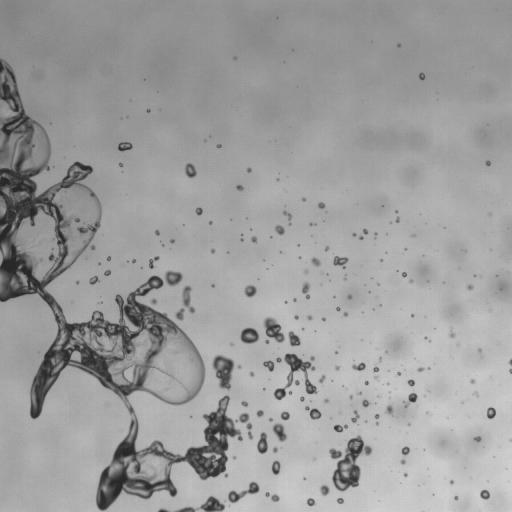droplet: (329, 435, 371, 491), (273, 353, 317, 399), (212, 355, 241, 389), (263, 317, 284, 343), (240, 327, 259, 343), (272, 423, 286, 441), (403, 392, 417, 407), (305, 406, 321, 419), (333, 256, 348, 268), (288, 331, 300, 346), (185, 163, 196, 177), (244, 285, 256, 297), (148, 256, 159, 268), (118, 142, 132, 151), (271, 460, 280, 474), (263, 360, 274, 371), (352, 362, 365, 371), (333, 424, 347, 432), (175, 308, 184, 320), (486, 407, 495, 419), (480, 489, 490, 499), (320, 484, 329, 495), (275, 225, 284, 235), (311, 257, 320, 266), (280, 411, 289, 420), (89, 276, 98, 284), (385, 405, 393, 414), (401, 446, 409, 454), (307, 498, 315, 506), (195, 207, 202, 215), (362, 399, 369, 407), (449, 328, 455, 337), (319, 375, 325, 383), (466, 284, 473, 290), (408, 379, 414, 386), (257, 410, 263, 417), (373, 365, 378, 373), (318, 202, 324, 208), (251, 236, 257, 242), (150, 298, 156, 304), (272, 446, 278, 452), (236, 185, 243, 190), (474, 436, 481, 441), (419, 73, 424, 79), (104, 270, 110, 275), (241, 401, 247, 406), (337, 498, 343, 503), (485, 160, 490, 165), (90, 245, 95, 250), (374, 414, 379, 419), (395, 217, 399, 222), (363, 229, 367, 234), (155, 230, 159, 235), (402, 272, 406, 277), (336, 306, 340, 311), (343, 312, 348, 316), (307, 315, 312, 319), (418, 367, 423, 371), (249, 372, 253, 377), (470, 379, 475, 383), (473, 391, 478, 395), (300, 396, 304, 401), (401, 459, 405, 464), (247, 168, 251, 172), (170, 239, 174, 243), (347, 295, 351, 299), (294, 315, 298, 319), (335, 366, 339, 370), (364, 381, 368, 385), (454, 496, 458, 500), (302, 197, 305, 201), (325, 246, 328, 250), (211, 249, 214, 253), (396, 372, 400, 375), (375, 375, 378, 379), (358, 392, 362, 395), (349, 395, 352, 399), (324, 399, 328, 402), (217, 144, 220, 147), (119, 163, 122, 166), (359, 236, 362, 239), (107, 257, 110, 260), (409, 279, 412, 282), (322, 317, 325, 320), (269, 418, 272, 421), (404, 473, 407, 476), (450, 480, 453, 483), (397, 44, 400, 46), (147, 109, 149, 112), (353, 233, 355, 236), (374, 233, 376, 236), (132, 260, 135, 262), (304, 270, 307, 272), (478, 349, 481, 351), (379, 358, 382, 360), (209, 221, 211, 223), (293, 299, 295, 301), (411, 314, 413, 316), (335, 351, 337, 353), (376, 422, 378, 424), (233, 457, 235, 459)
ligament: (0, 58, 253, 511), (173, 495, 224, 511), (227, 481, 259, 503), (182, 286, 194, 313), (257, 432, 267, 453), (302, 282, 310, 298), (265, 492, 279, 501), (351, 410, 359, 422), (283, 211, 291, 219), (508, 358, 511, 373), (158, 508, 171, 511), (309, 223, 315, 225), (510, 438, 511, 441)
